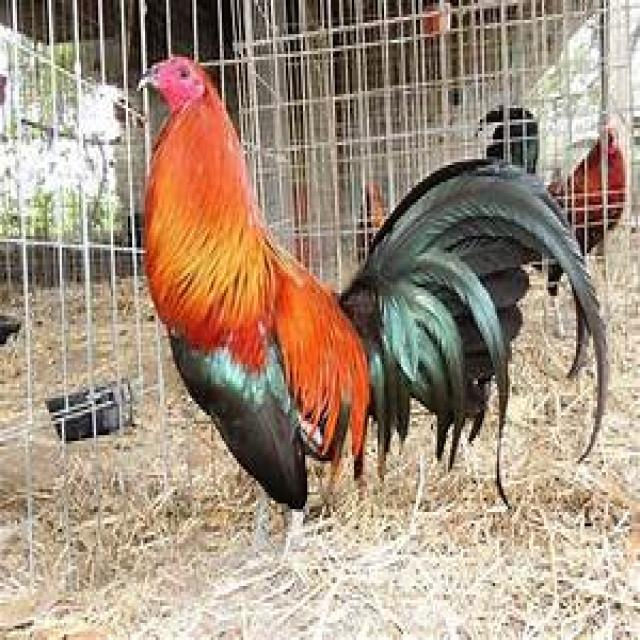hen: (145, 57, 609, 508)
